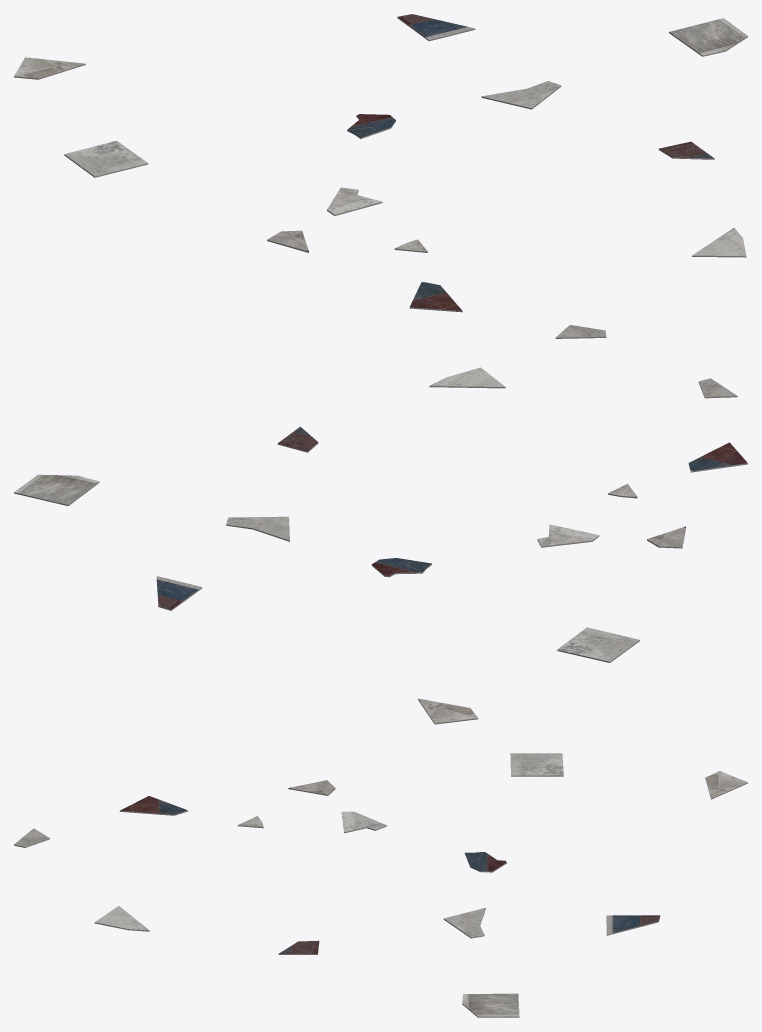
Rendered from SM_Marble_Wall_Chips.glb.
3 renders of one model, top to bottom at view 1: azimuth 30°, elevation 25°; view 2: azimuth 150°, elevation 25°; view 3: azimuth 270°, elevation 25°, orthographic. The views are drawn at different scales.
Parts seen in each view (by area): view 1: SM_Marble_Wall_Chips; view 2: SM_Marble_Wall_Chips; view 3: SM_Marble_Wall_Chips.
Part boxes in pixels (x1,y1,x2,y2): SM_Marble_Wall_Chips: (14,14,747,338); SM_Marble_Wall_Chips: (14,367,747,724); SM_Marble_Wall_Chips: (14,753,747,1017).
Size of the model in its own units: 0.9914 by 0.00197 by 1.17.
Materials: 1 (1 with a texture image).
